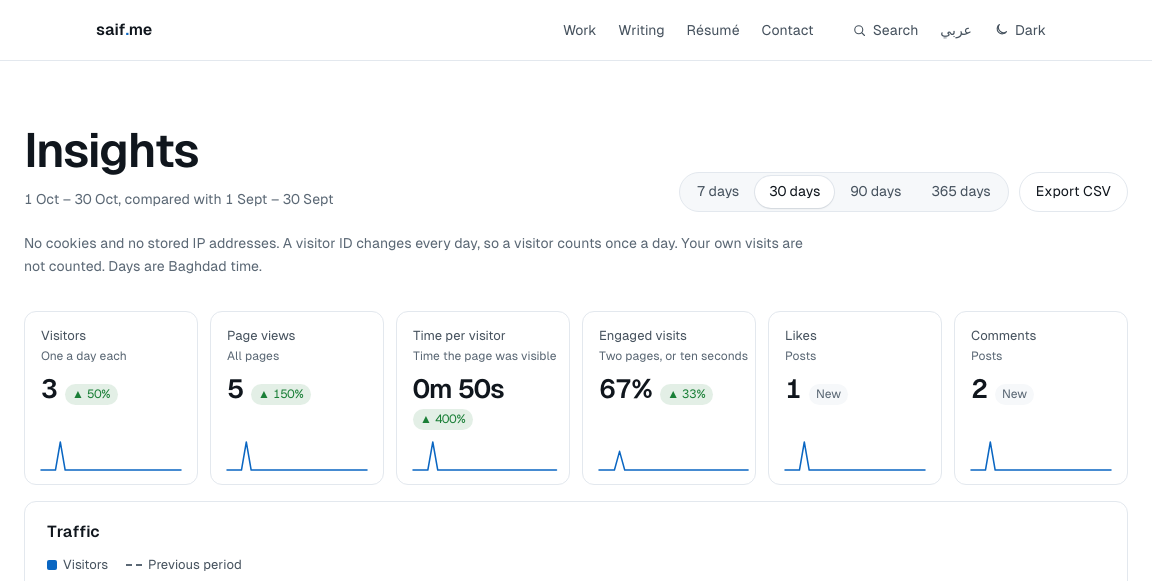
Scenario: InsightsPage › asks for a new range once, and names the day under the pointer
This screenshot has width=1152, height=581.
Click the button "7 days" at (718, 192), box [683, 176, 753, 208]
(page scrolled)
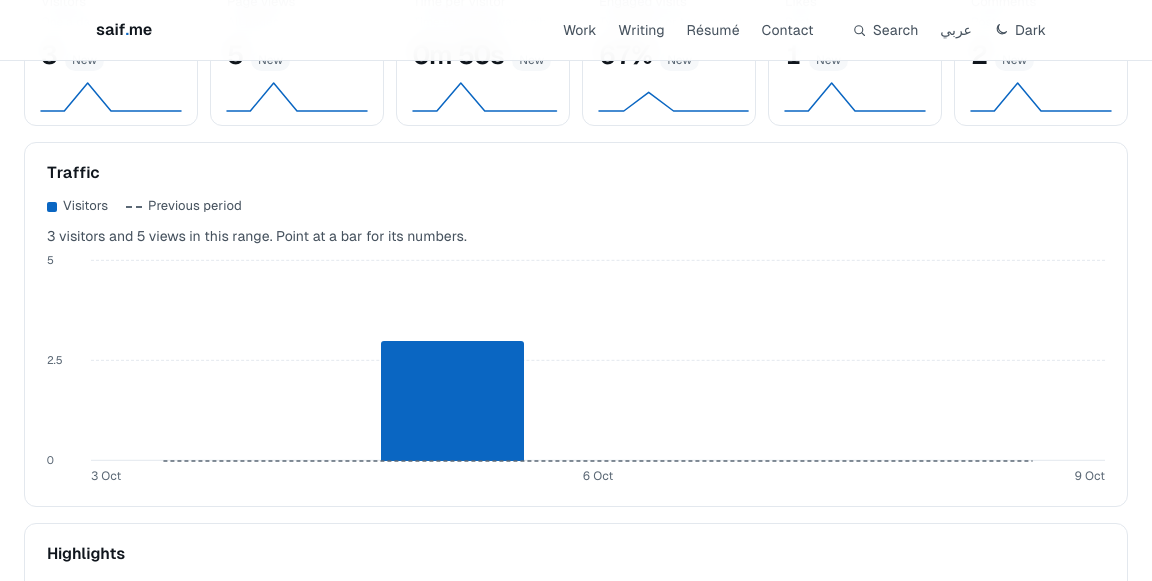
Result: the number of buttons with class "insights-bar" is 7
Hover over the 3rd button with class "insights-bar" at (453, 361), box [381, 261, 524, 461]
(page scrolled)
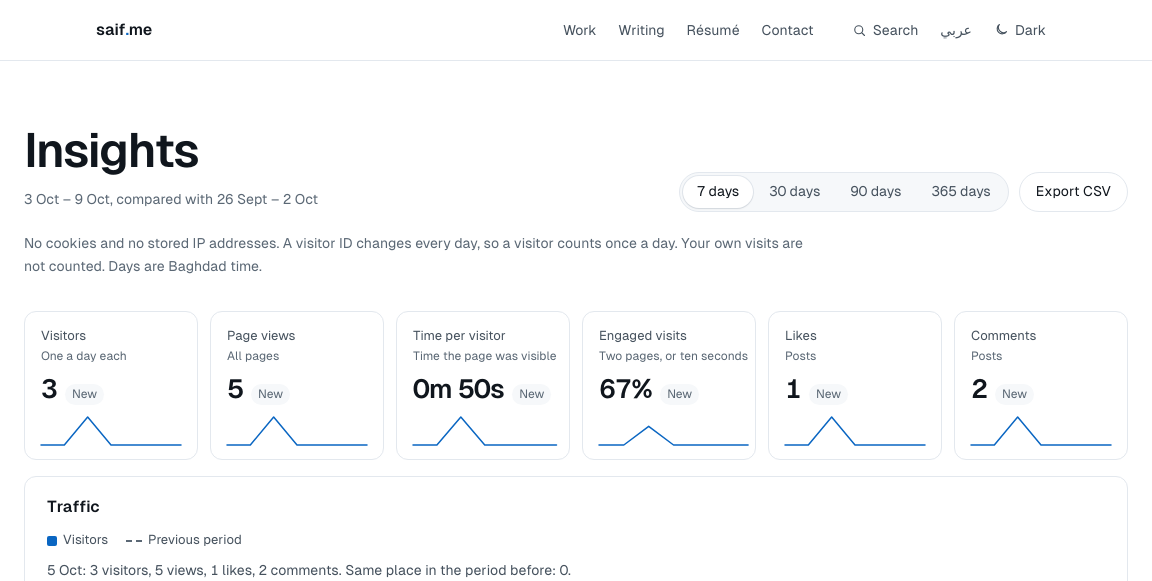
Result: the text with class "insights-readout" shows "5 Oct: 3 visitors, 5 views, 1 likes, 2 comments. Same place in the period before: 0." at [47, 562, 571, 578]
Click the button "30 days" at (795, 192), box [755, 176, 834, 208]
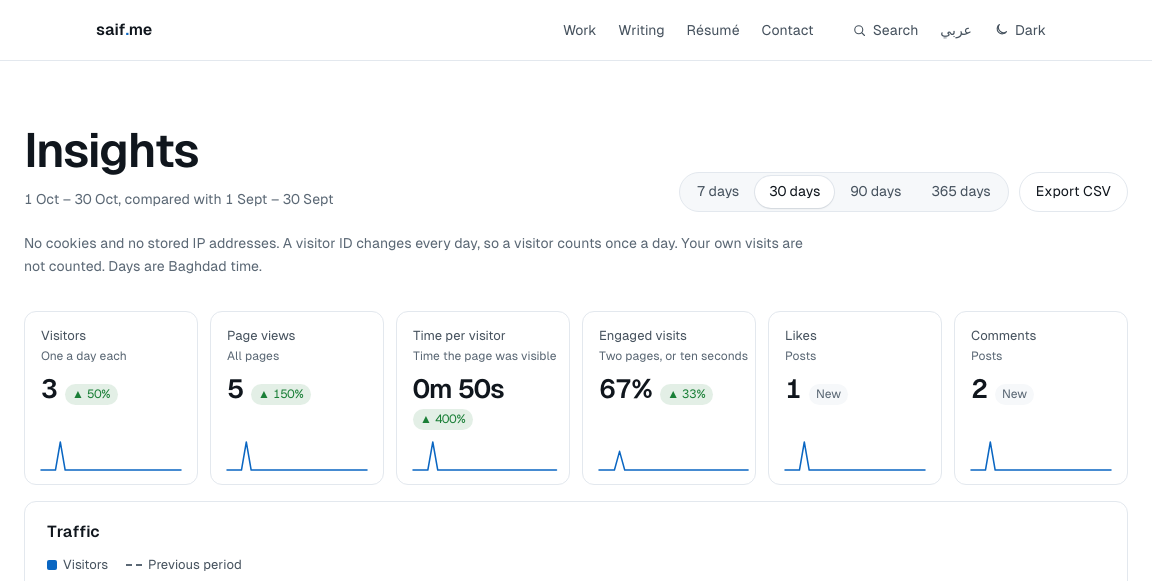
Result: the number of buttons with class "insights-bar" is 30
